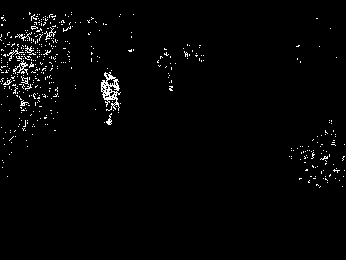person: (98, 69, 123, 128)
